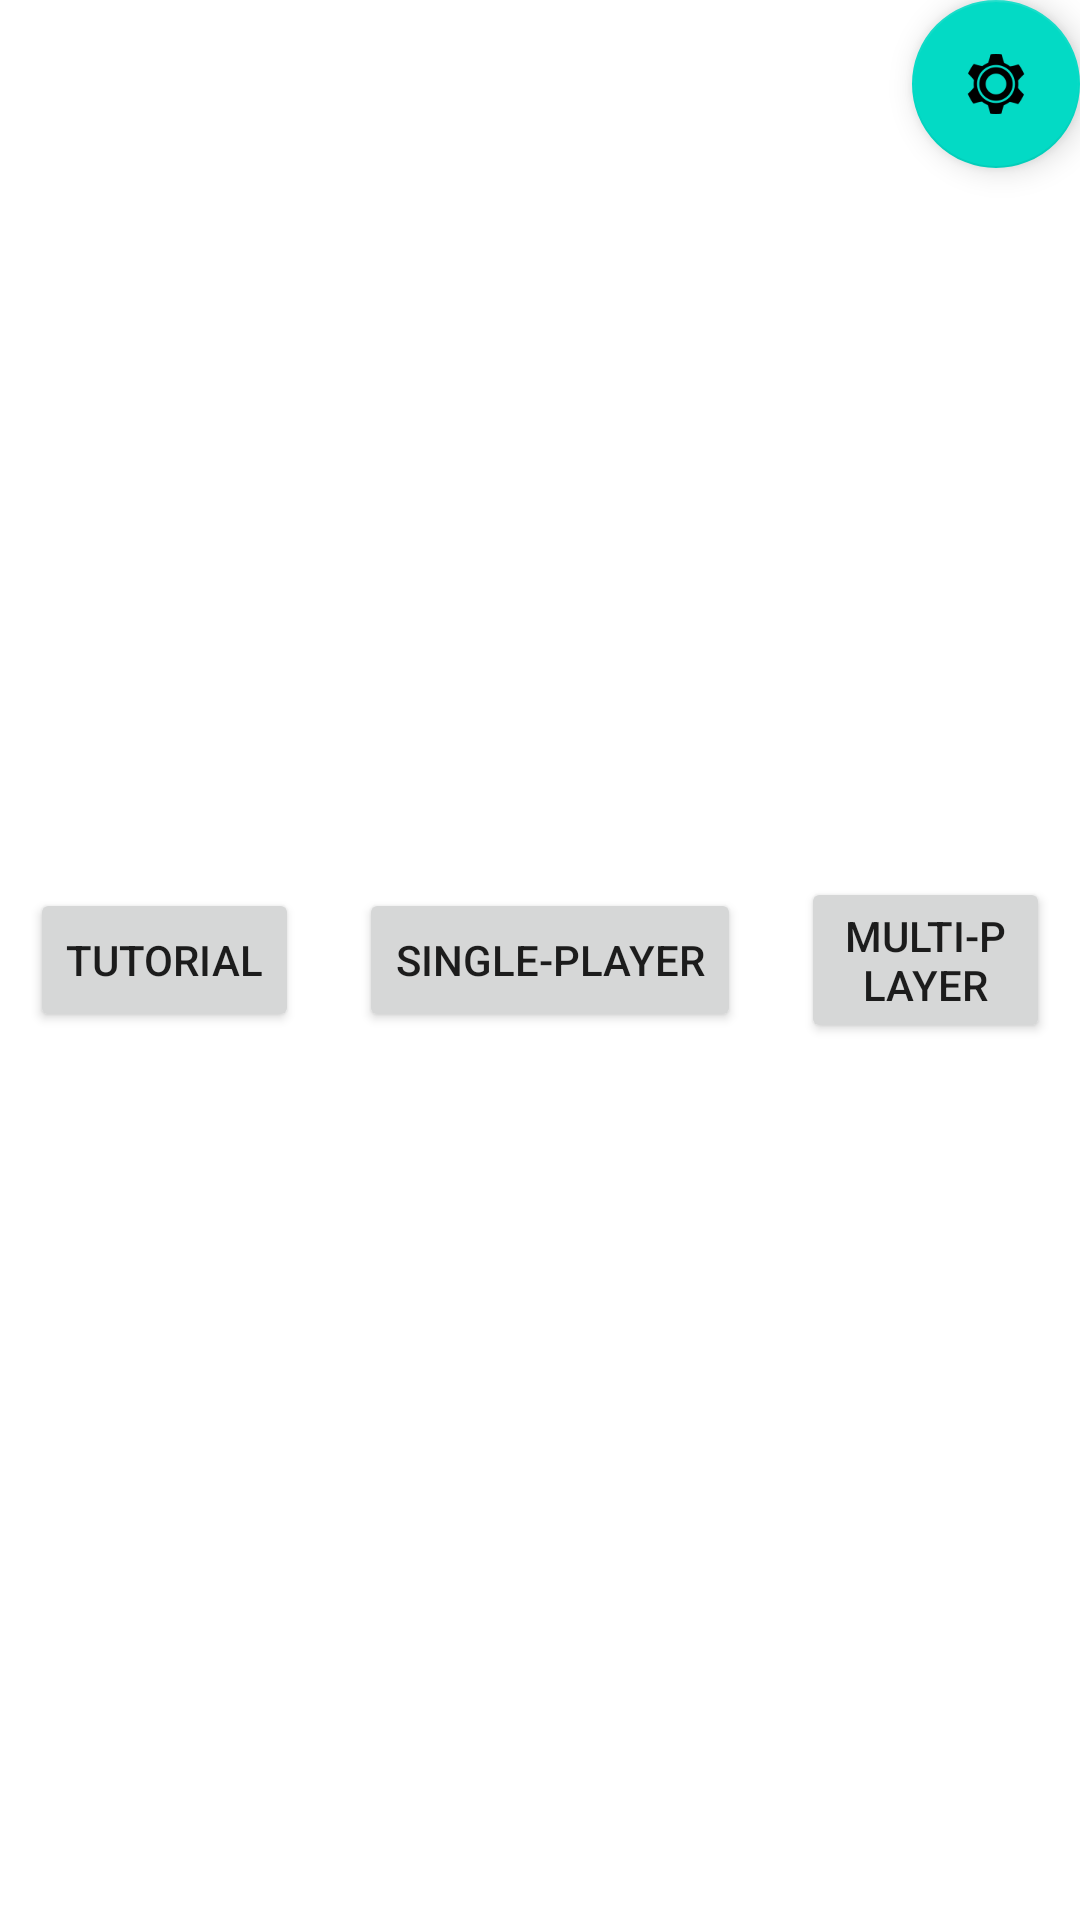

Icon click points for this 1080×1920 phone screenshot, format (x,y):
settings: (996,84)
